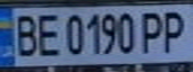0: (115, 9, 139, 55), (63, 10, 84, 56)
1: (81, 10, 103, 55)
9: (100, 10, 121, 55)
B: (9, 10, 42, 58)
E: (33, 10, 63, 57)
P: (157, 7, 190, 53), (139, 8, 169, 55)
